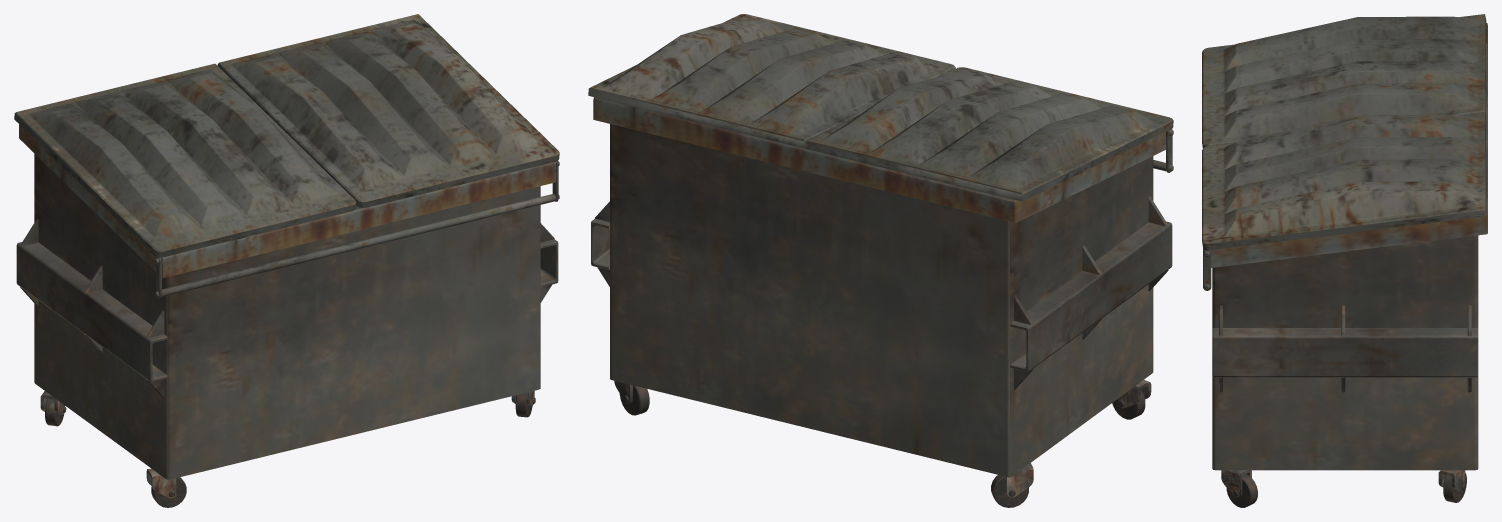
File: structure_000.glb
The picture shows the model from 3 angles, left to right: view 1: azimuth 30°, elevation 25°; view 2: azimuth 150°, elevation 25°; view 3: azimuth 270°, elevation 25°; orthographic projection. The views are drawn at different scales.
Parts seen in each view (by area): view 1: Building_12_000; view 2: Building_12_000; view 3: Building_12_000.
Part boxes in pixels (x1,y1,x2,y2): Building_12_000: (14, 14, 559, 507); Building_12_000: (588, 14, 1173, 507); Building_12_000: (1202, 14, 1487, 507).
Bounding box in the file's own units: 4.68 × 3.45 × 2.86.
1 material, 1 textured.
